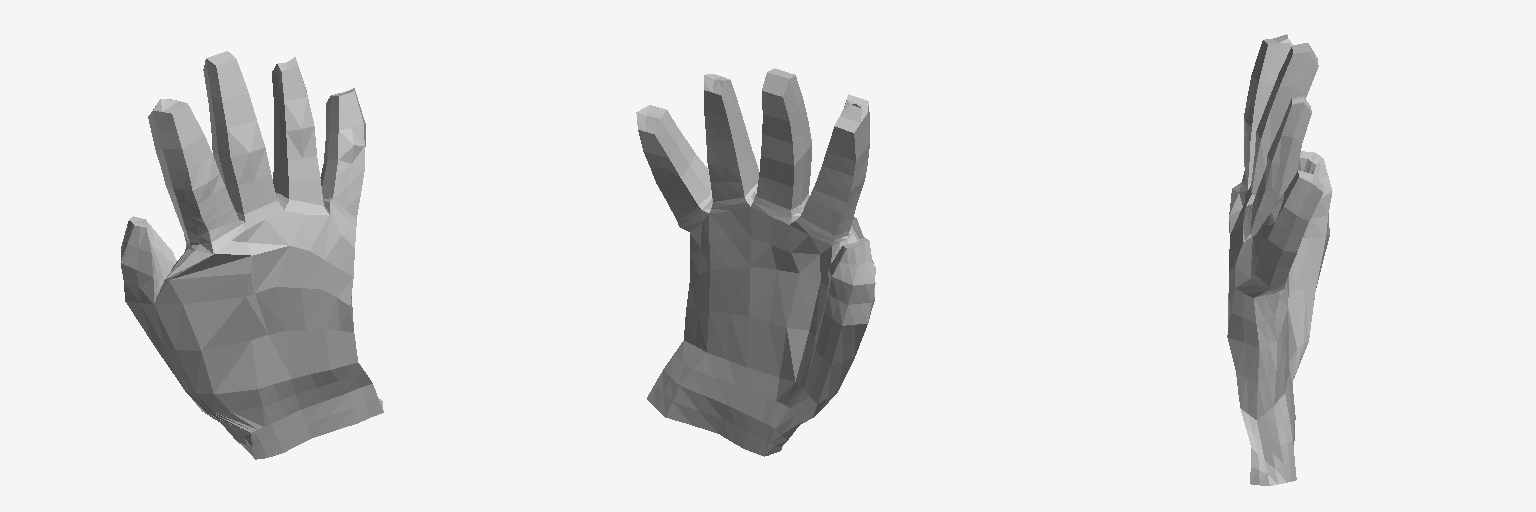
Rendered from grip0009.obj.
3 views of the same model, side by side, from view 1: azimuth 30°, elevation 25°; view 2: azimuth 150°, elevation 25°; view 3: azimuth 270°, elevation 25° (orthographic).
Visible parts, largest first — view 1: Hand; view 2: Hand; view 3: Hand.
Boxes of the visible parts, x1=… form: Hand: x1=121, y1=51, x2=383, y2=459; Hand: x1=636, y1=68, x2=875, y2=456; Hand: x1=1227, y1=34, x2=1332, y2=485.
Bounding box in the file's own units: 3.15 × 4.9 × 1.18.